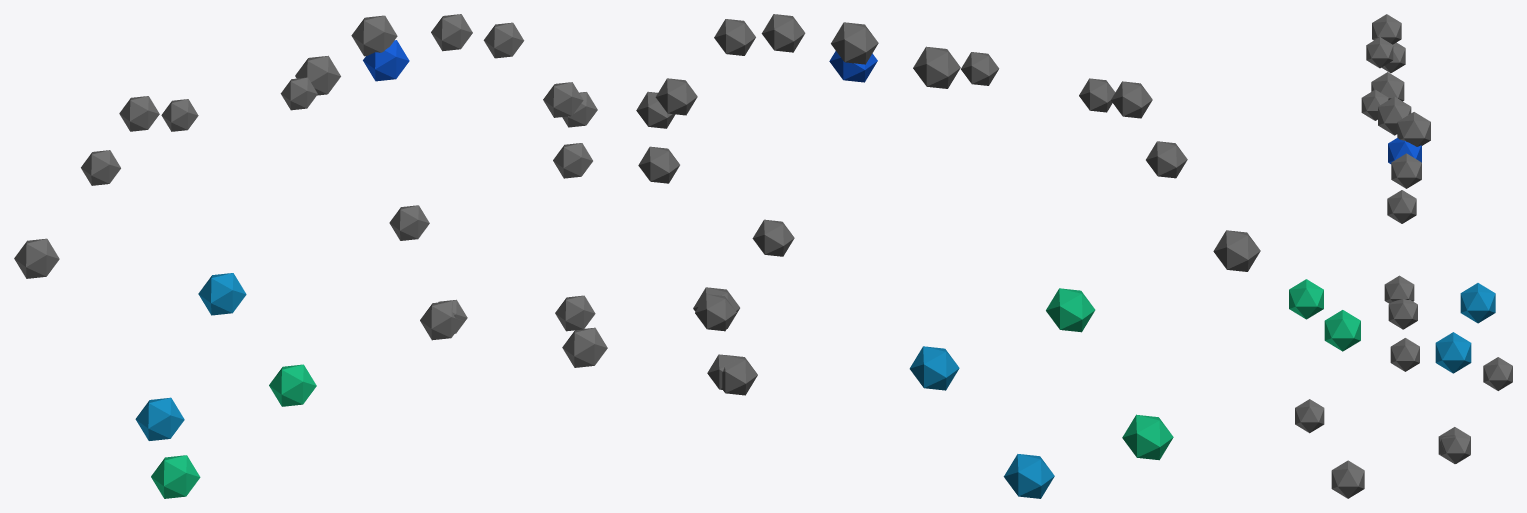
3 views of the same model, side by side, from view 1: azimuth 30°, elevation 25°; view 2: azimuth 150°, elevation 25°; view 3: azimuth 270°, elevation 25° (orthographic). The views are drawn at different scales.
Visible parts, largest first — view 1: 01_08_01; view 2: 01_08_01; view 3: 01_08_01.
Boxes of the visible parts, x1,y1,x2,y2 form: 01_08_01: (14,14,607,498); 01_08_01: (636,14,1260,498); 01_08_01: (1289,14,1512,498).
Size of the model in its own units: 0.6522 by 0.4186 by 0.2554.
